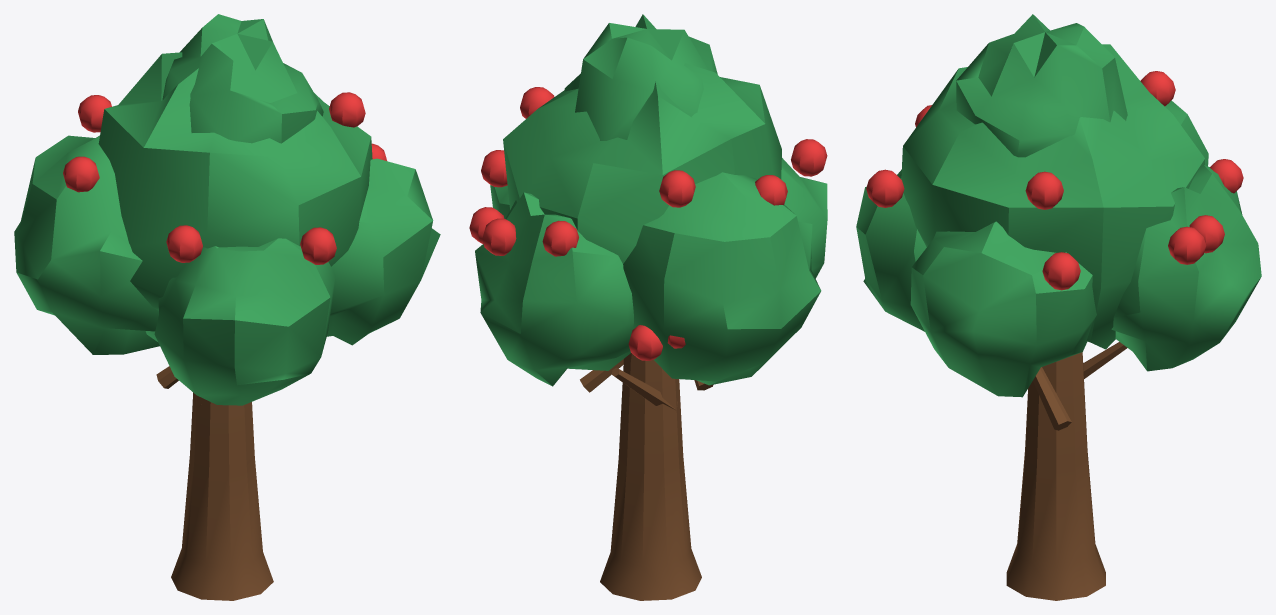
The model's file is LandTree.fbx.
The picture shows the model from 3 angles, left to right: view 1: azimuth 30°, elevation 25°; view 2: azimuth 150°, elevation 25°; view 3: azimuth 270°, elevation 25°; orthographic projection.
Visible parts, largest first — view 1: LandTree; view 2: LandTree; view 3: LandTree.
Part boxes in pixels (box(x1,y1,x2,y2)): LandTree: box(14, 14, 440, 600); LandTree: box(469, 14, 827, 600); LandTree: box(856, 14, 1261, 600).
Bounding box in the file's own units: 753 × 1121 × 739.
